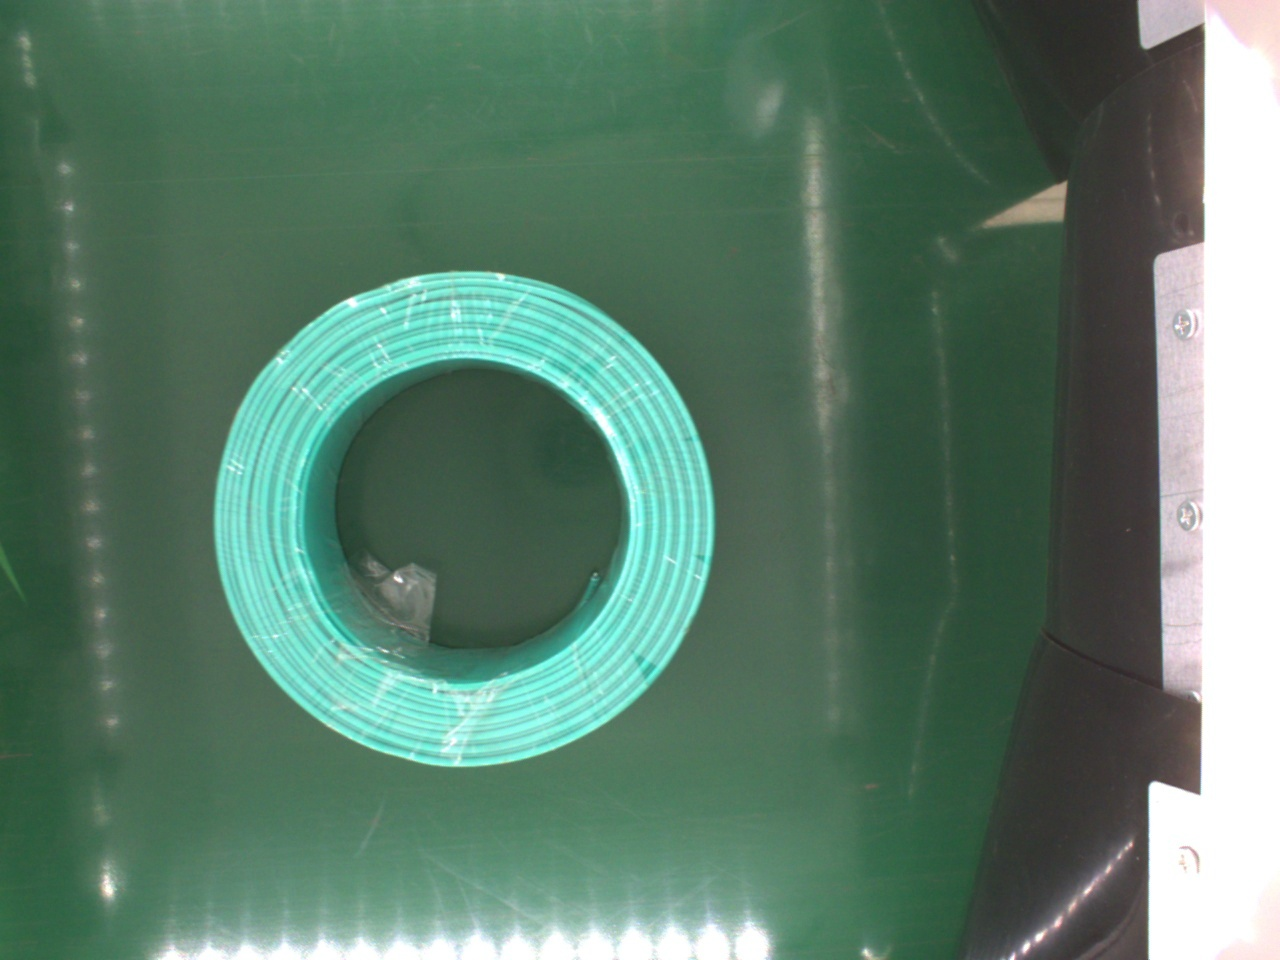green: (208, 267, 717, 772)
